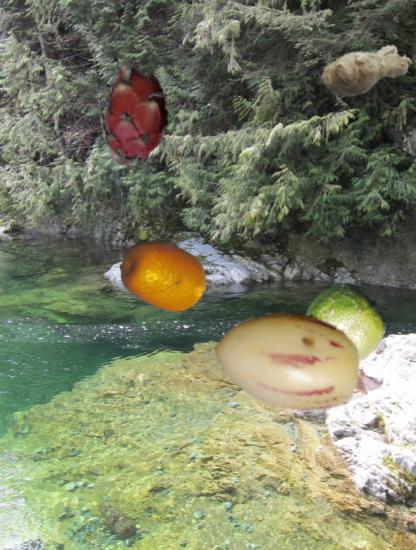Ginger: (319, 23, 414, 118)
Kumquats: (119, 231, 209, 321)
Limes: (298, 283, 385, 370)
Pepino: (215, 285, 364, 434)
Pitahaya: (80, 60, 189, 169)
